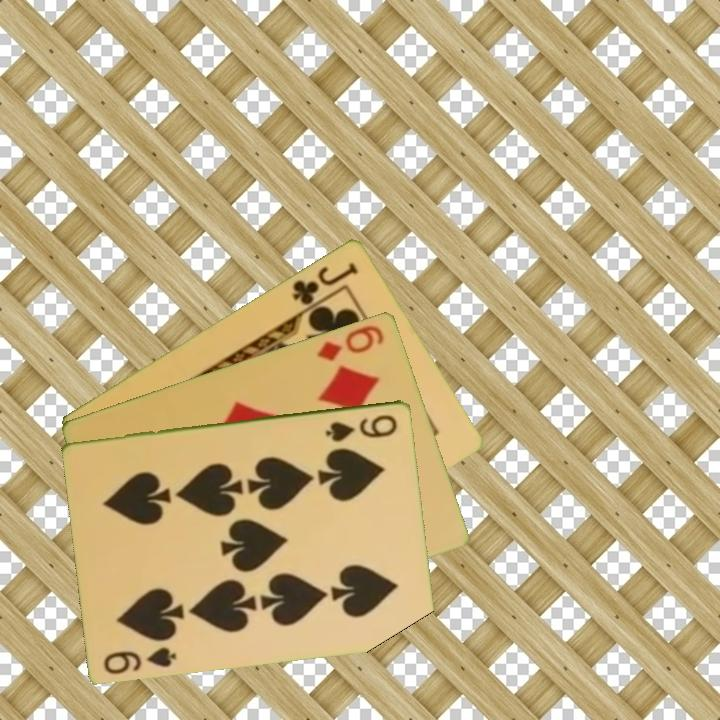6d: (314, 321, 387, 364)
9s: (322, 410, 401, 445), (100, 643, 180, 677)
Jc: (289, 258, 361, 308)
